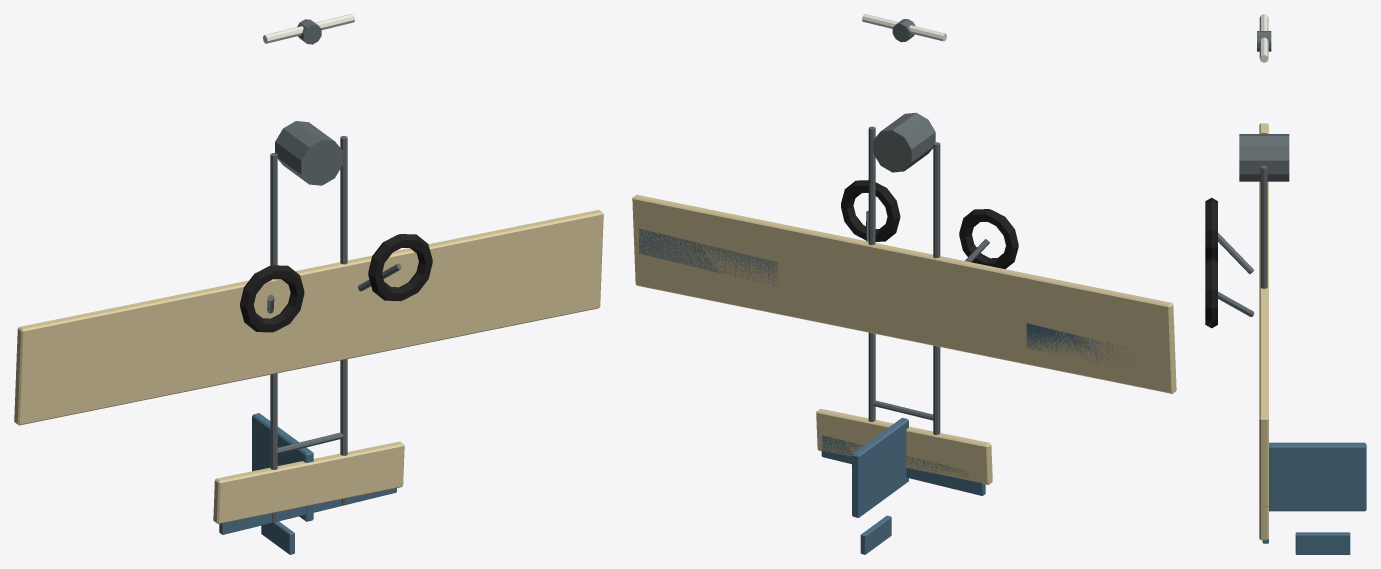
The picture shows the model from 3 angles, left to right: view 1: azimuth 30°, elevation 25°; view 2: azimuth 150°, elevation 25°; view 3: azimuth 270°, elevation 25°; orthographic projection. The views are drawn at different scales.
Visible parts, largest first — view 1: main_wing.002, horizontal_tail.002, engine_mount_0.002, wheel_0.002, wheel_1.002, vertical_tail.002, exposed_longeron.005, exposed_longeron.004, elevator.002, rudder.002, prop_blade.006; view 2: main_wing.002, horizontal_tail.002, vertical_tail.002, aileron_R.002, engine_mount_0.002, elevator.002, wheel_0.002, wheel_1.002, exposed_longeron.004, exposed_longeron.005, aileron_L.002, rudder.002; view 3: vertical_tail.002, main_wing.002, engine_mount_0.002, rudder.002, exposed_longeron.005, wheel_1.002, wheel_0.002, prop_blade.006, horizontal_tail.002, landing_strut_0.002, landing_strut_1.002.
Boxes of the visible parts, bbox=[...] form: main_wing.002: bbox=[14, 210, 603, 425]; horizontal_tail.002: bbox=[213, 441, 404, 524]; engine_mount_0.002: bbox=[275, 121, 342, 185]; wheel_0.002: bbox=[240, 265, 304, 332]; wheel_1.002: bbox=[368, 234, 432, 301]; vertical_tail.002: bbox=[252, 413, 313, 521]; exposed_longeron.005: bbox=[340, 136, 347, 504]; exposed_longeron.004: bbox=[270, 153, 277, 522]; elevator.002: bbox=[219, 488, 396, 534]; rudder.002: bbox=[261, 521, 294, 554]; prop_blade.006: bbox=[263, 14, 354, 43]; main_wing.002: bbox=[632, 195, 1176, 393]; horizontal_tail.002: bbox=[816, 408, 992, 484]; vertical_tail.002: bbox=[852, 417, 908, 517]; aileron_R.002: bbox=[639, 228, 777, 286]; engine_mount_0.002: bbox=[873, 112, 935, 172]; elevator.002: bbox=[821, 435, 985, 495]; wheel_0.002: bbox=[959, 209, 1018, 269]; wheel_1.002: bbox=[841, 180, 900, 241]; exposed_longeron.004: bbox=[933, 142, 940, 434]; exposed_longeron.005: bbox=[868, 126, 875, 421]; aileron_L.002: bbox=[1026, 323, 1136, 367]; rudder.002: bbox=[860, 515, 891, 554]; vertical_tail.002: bbox=[1269, 442, 1366, 511]; main_wing.002: bbox=[1259, 123, 1268, 507]; engine_mount_0.002: bbox=[1239, 134, 1289, 181]; rudder.002: bbox=[1295, 532, 1350, 554]; exposed_longeron.005: bbox=[1260, 165, 1267, 288]; wheel_1.002: bbox=[1205, 257, 1217, 328]; wheel_0.002: bbox=[1205, 197, 1217, 260]; prop_blade.006: bbox=[1259, 14, 1268, 62]; horizontal_tail.002: bbox=[1259, 506, 1268, 540]; landing_strut_0.002: bbox=[1218, 233, 1253, 274]; landing_strut_1.002: bbox=[1218, 291, 1254, 316].
Size of the model in its own units: 8.04 by 7.14 by 2.
